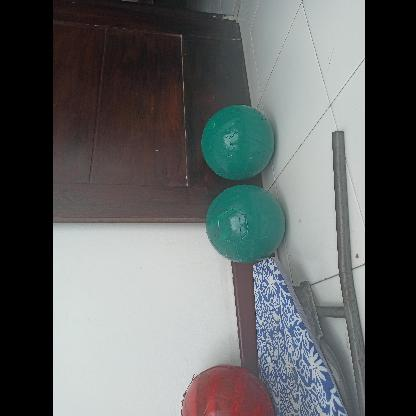green_ball: (204, 182, 284, 264), (198, 102, 274, 180)
